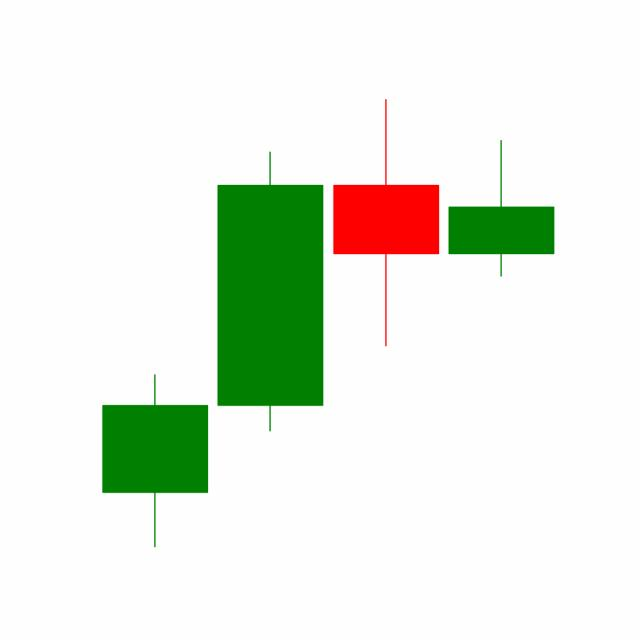Spinning Top: (328, 96, 444, 349)
